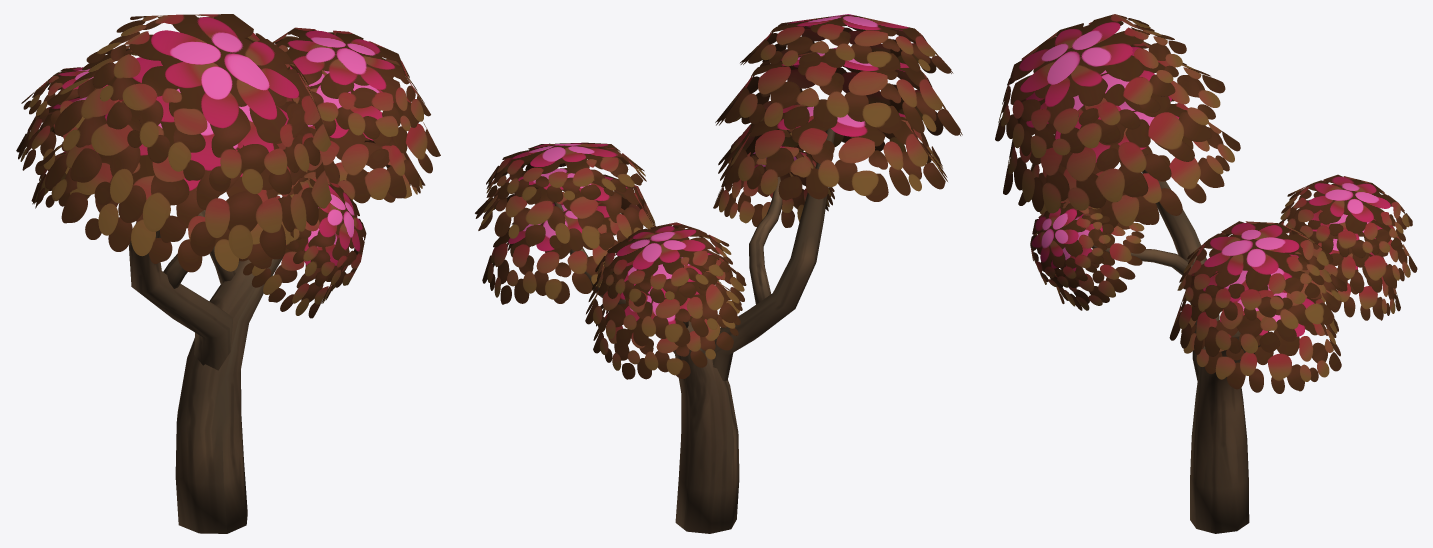
Rendered from TreePink02.fbx.
3 views of the same model, side by side, from view 1: azimuth 30°, elevation 25°; view 2: azimuth 150°, elevation 25°; view 3: azimuth 270°, elevation 25° (orthographic). The views are drawn at different scales.
Visible parts, largest first — view 1: BlueLeaf.018, BlueLeaf.017, Log1.002, BlueLeaf.015, BlueLeaf.016, BlueLeaf.014, Branch1.002, BlueLeaf.012, BlueLeaf.011, BlueLeaf.020, BlueLeaf.021, BlueLeaf.013 (+1 smaller); view 2: BlueLeaf.016, BlueLeaf.017, Log1.002, BlueLeaf.018, BlueLeaf.021, BlueLeaf.014, BlueLeaf.020, BlueLeaf.015, BlueLeaf.013, Branch1.002, BlueLeaf.019, BlueLeaf.011 (+1 smaller); view 3: BlueLeaf.018, BlueLeaf.017, BlueLeaf.015, Log1.002, BlueLeaf.021, BlueLeaf.014, BlueLeaf.016, BlueLeaf.013, BlueLeaf.012, BlueLeaf.011, BlueLeaf.020, BlueLeaf.019 (+2 smaller).
Boxes of the visible parts, x1,y1,x2,y2 form: BlueLeaf.018: (86, 14, 331, 194); BlueLeaf.017: (47, 45, 331, 259); Log1.002: (175, 257, 282, 533); BlueLeaf.015: (272, 27, 430, 139); BlueLeaf.016: (37, 99, 303, 272); BlueLeaf.014: (277, 66, 440, 203); Branch1.002: (129, 222, 232, 370); BlueLeaf.012: (278, 177, 366, 287); BlueLeaf.011: (239, 187, 349, 318); BlueLeaf.020: (16, 96, 94, 174); BlueLeaf.021: (21, 67, 124, 128); BlueLeaf.013: (283, 125, 425, 202); BlueLeaf.016: (718, 104, 947, 201); BlueLeaf.017: (715, 47, 962, 135); Log1.002: (554, 202, 739, 533); BlueLeaf.018: (740, 14, 953, 73); BlueLeaf.021: (595, 222, 732, 306); BlueLeaf.014: (475, 168, 655, 251); BlueLeaf.020: (585, 249, 746, 346); BlueLeaf.015: (486, 142, 646, 204); BlueLeaf.013: (482, 200, 646, 304); Branch1.002: (712, 128, 835, 380); BlueLeaf.019: (593, 271, 741, 379); BlueLeaf.011: (713, 146, 834, 227); BlueLeaf.018: (995, 14, 1186, 157); BlueLeaf.017: (1003, 41, 1225, 213); BlueLeaf.015: (1177, 221, 1333, 320); Log1.002: (1190, 285, 1269, 533); BlueLeaf.021: (1280, 174, 1412, 258); BlueLeaf.014: (1169, 250, 1347, 356); BlueLeaf.016: (1018, 96, 1240, 227); BlueLeaf.013: (1180, 285, 1341, 393); BlueLeaf.012: (1030, 201, 1113, 287); BlueLeaf.011: (1050, 214, 1145, 310); BlueLeaf.020: (1279, 199, 1417, 292); BlueLeaf.019: (1307, 225, 1400, 320).
Bounding box in the file's own units: 724 × 850 × 721.
